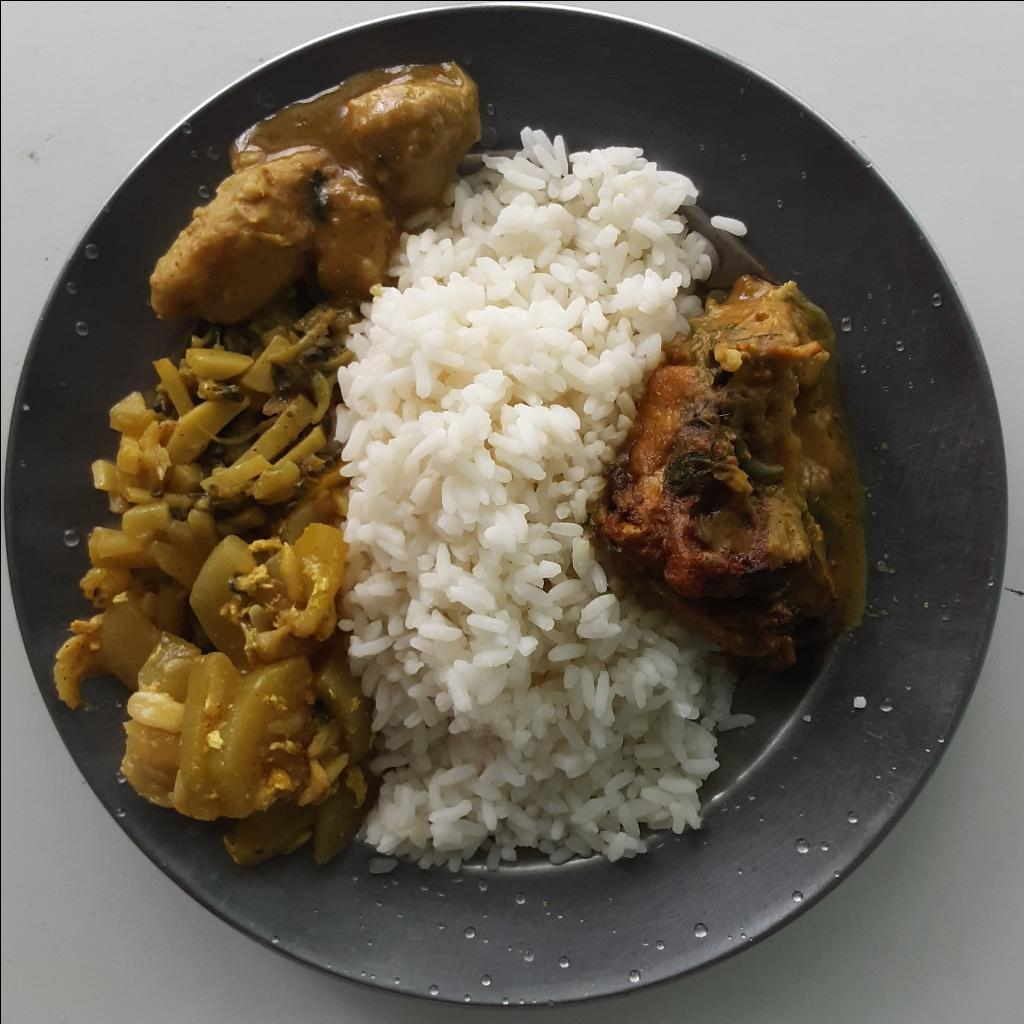fish: (589, 276, 864, 675)
kochu: (153, 62, 478, 322)
korola-vaji: (189, 266, 366, 397)
kumra-vaji: (50, 480, 379, 877)
potato: (92, 337, 332, 548)
rice: (332, 130, 757, 874)
